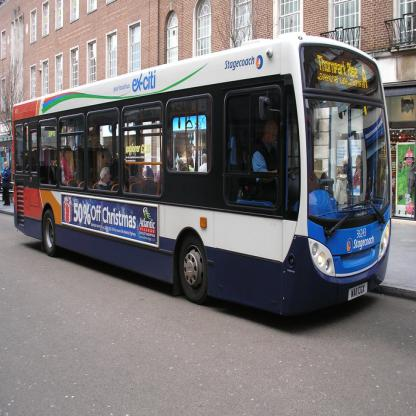Bus: (13, 32, 392, 316)
